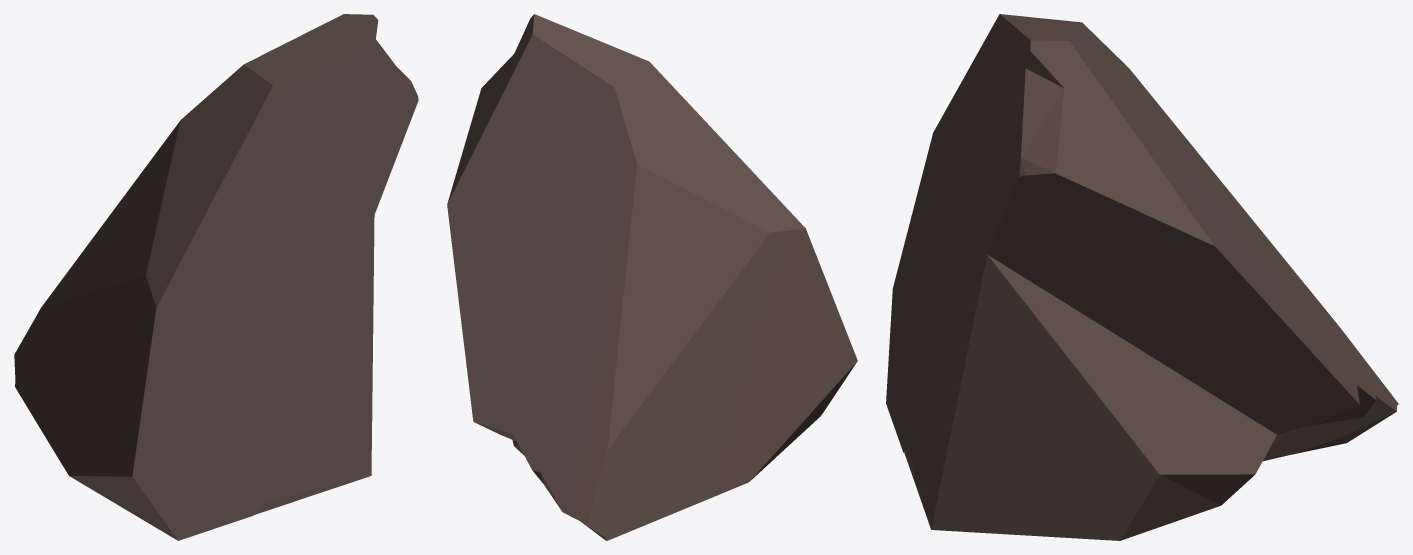
Rendered from Cliff shard 2.fbx.
3 views of the same model, side by side, from view 1: azimuth 30°, elevation 25°; view 2: azimuth 150°, elevation 25°; view 3: azimuth 270°, elevation 25° (orthographic). The views are drawn at different scales.
Parts seen in each view (by area): view 1: Cliff shard 2; view 2: Cliff shard 2; view 3: Cliff shard 2.
Boxes of the visible parts, <box> form: Cliff shard 2: <box>14,14,418,540</box>; Cliff shard 2: <box>447,14,857,540</box>; Cliff shard 2: <box>886,14,1398,540</box>.
Size of the model in its own units: 0.8419 by 0.9807 by 0.885.
